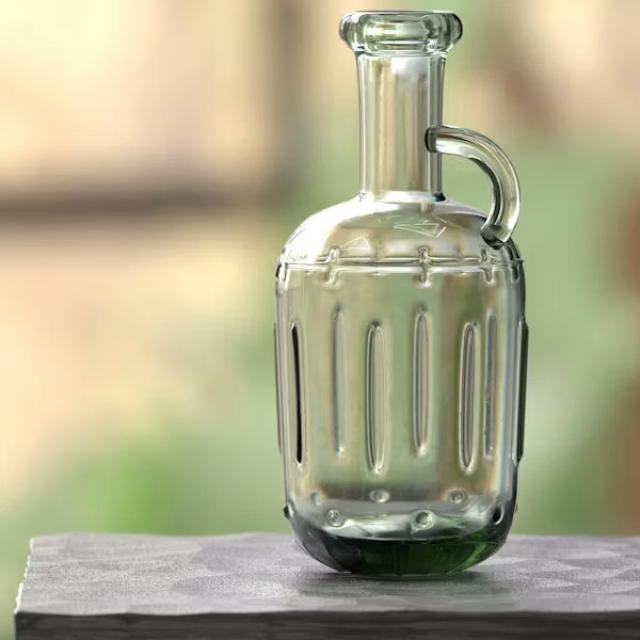Bottle: (276, 12, 526, 574)
